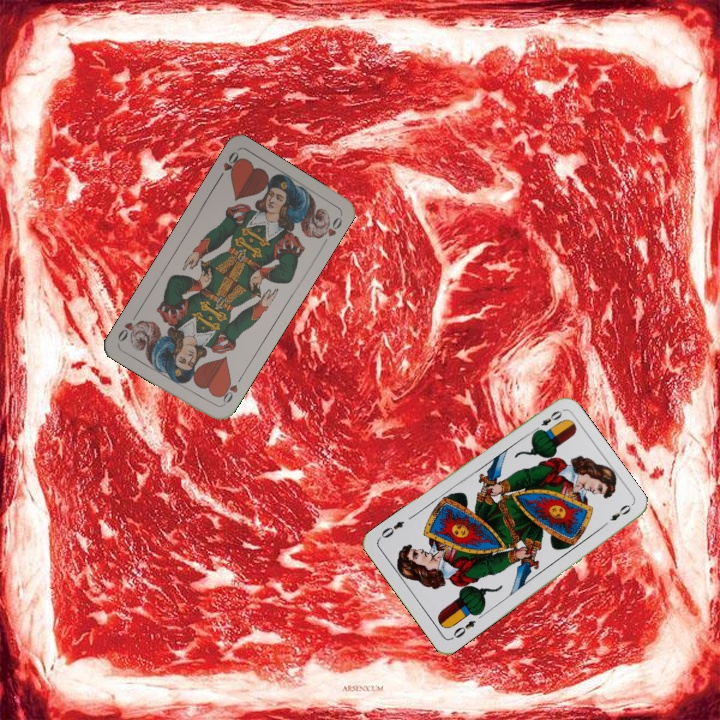EO: (529, 406, 565, 436), (447, 616, 478, 642)
HO: (213, 147, 244, 184), (216, 372, 245, 408)
